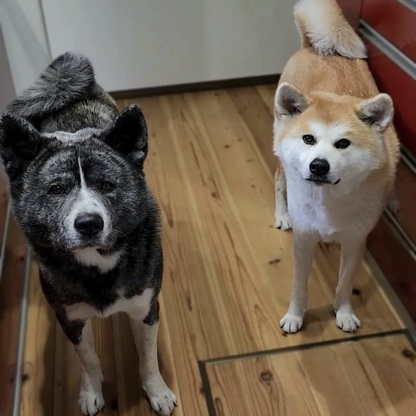akita: (3, 46, 194, 416), (259, 1, 416, 342)
